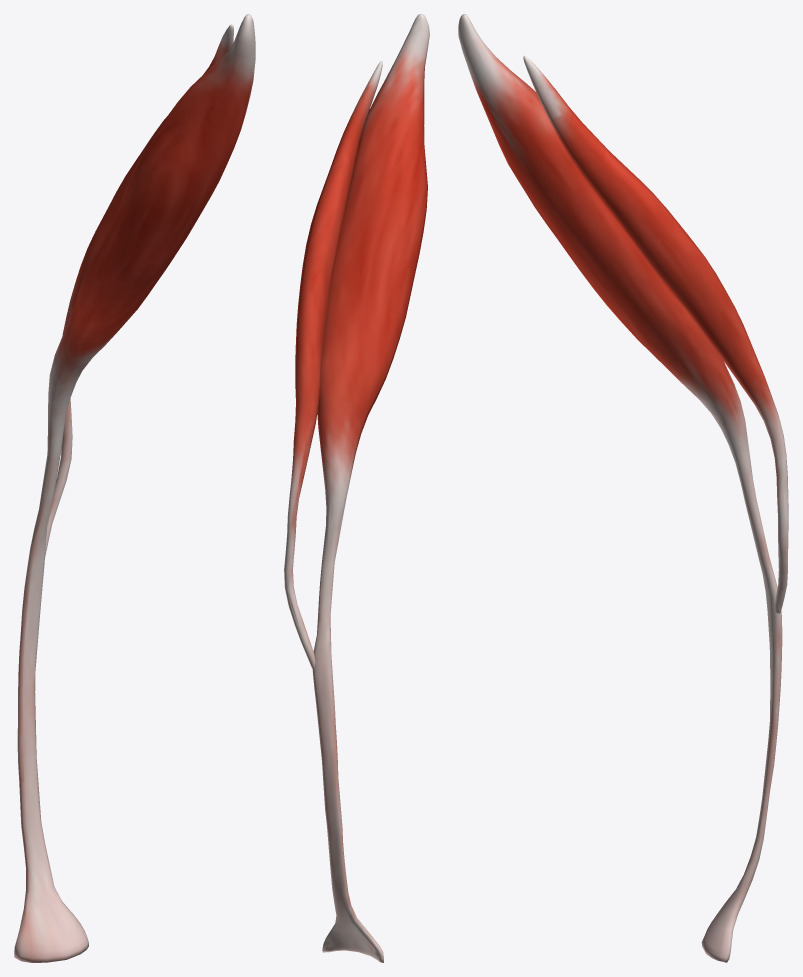
Rendered from L Long Digital Extensor.fbx.
3 renders of one model, left to right at view 1: azimuth 30°, elevation 25°; view 2: azimuth 150°, elevation 25°; view 3: azimuth 270°, elevation 25°, orthographic. The views are drawn at different scales.
Visible parts, largest first — view 1: L Long Digital Extensor, L Long Digital Extensor low; view 2: L Long Digital Extensor, L Long Digital Extensor low; view 3: L Long Digital Extensor, L Long Digital Extensor low.
Part boxes in pixels (box(x1,y1,x2,y2)): L Long Digital Extensor: box(14, 14, 255, 962); L Long Digital Extensor low: box(16, 16, 253, 962); L Long Digital Extensor: box(284, 14, 429, 962); L Long Digital Extensor low: box(284, 16, 429, 962); L Long Digital Extensor: box(458, 14, 788, 962); L Long Digital Extensor low: box(458, 15, 788, 962).
Bounding box in the file's own units: 12.37 × 91.4 × 28.56.
